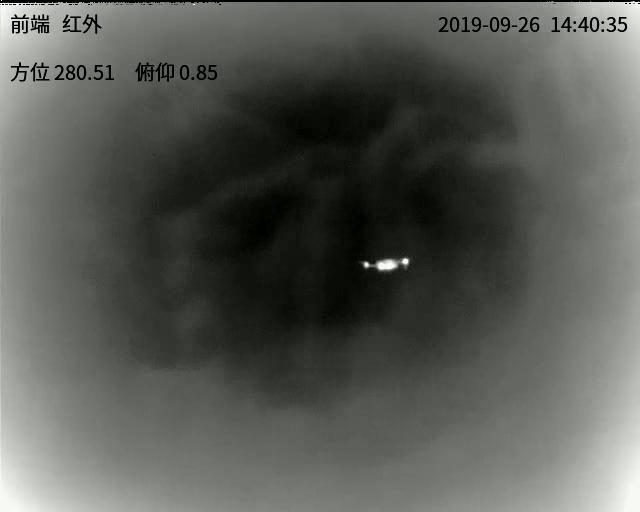DRONE: (362, 256, 410, 274)
